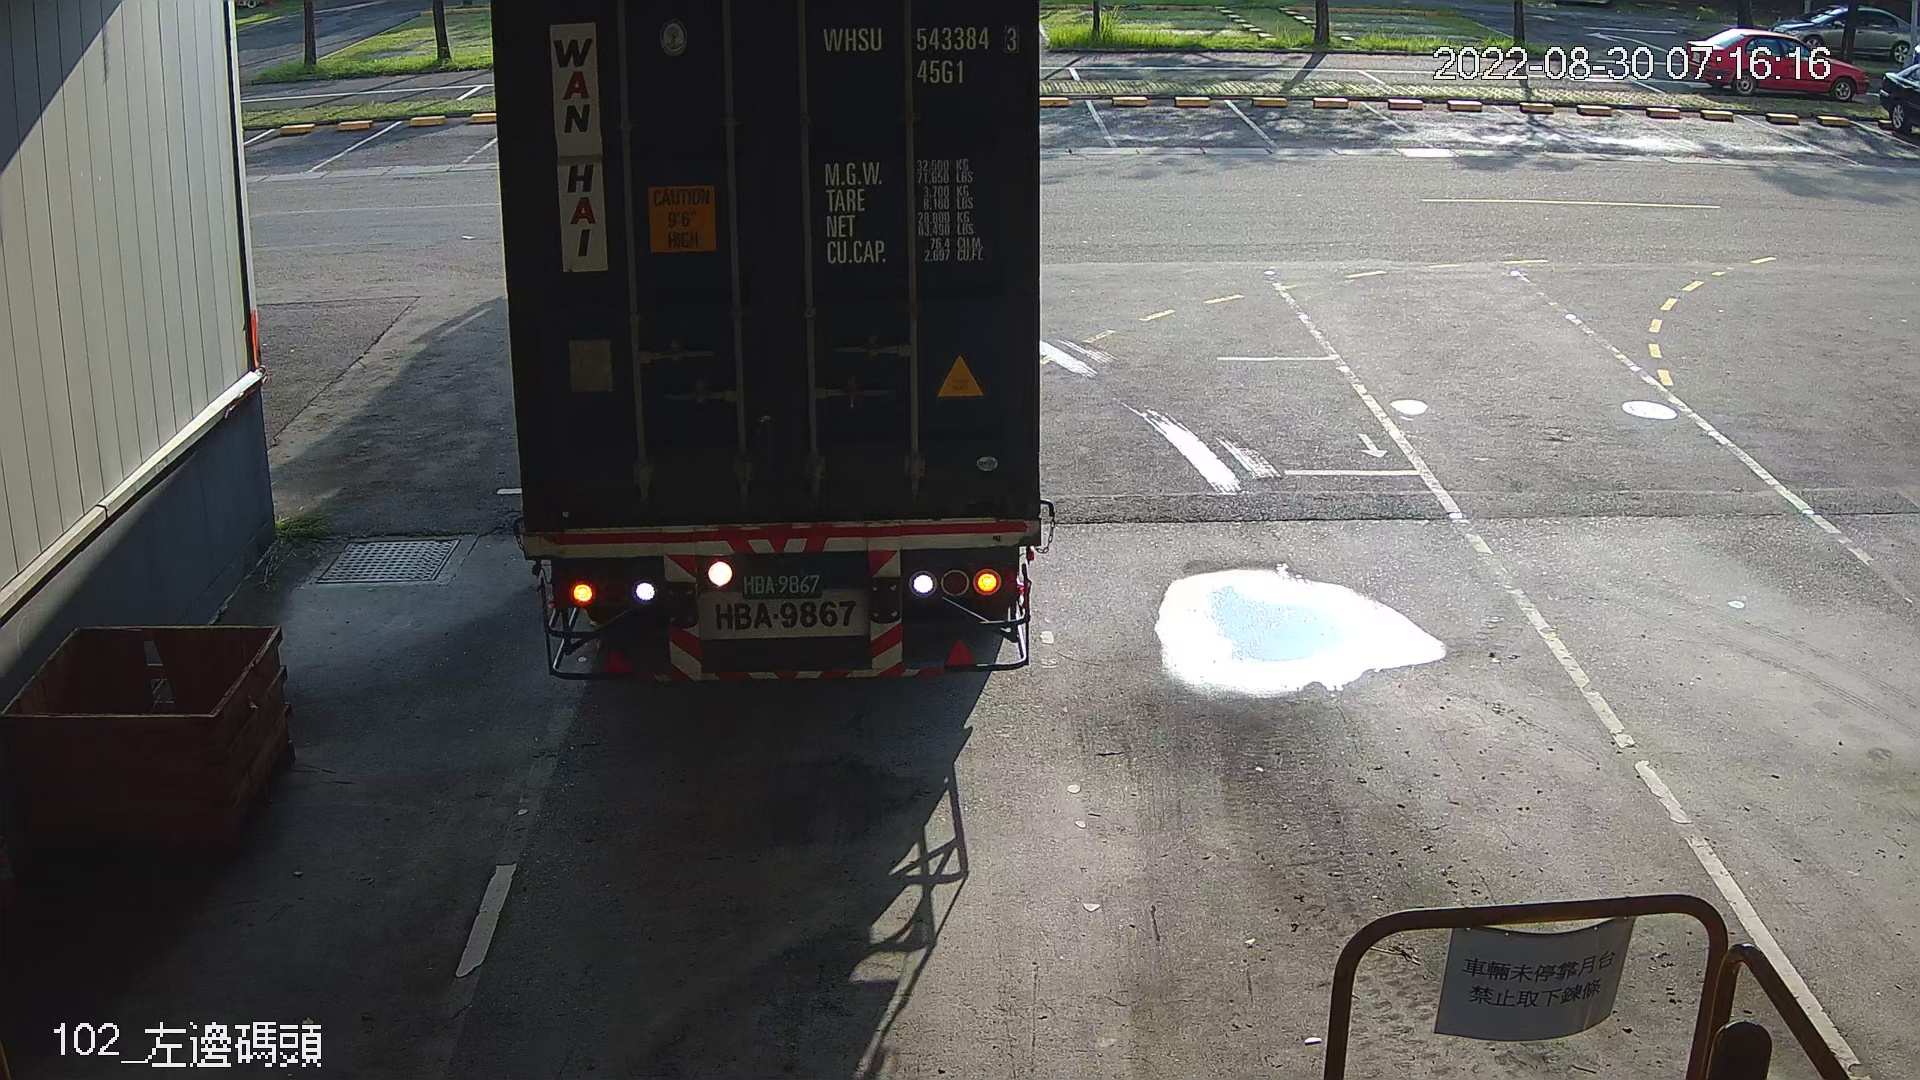container: (814, 13, 1026, 94)
